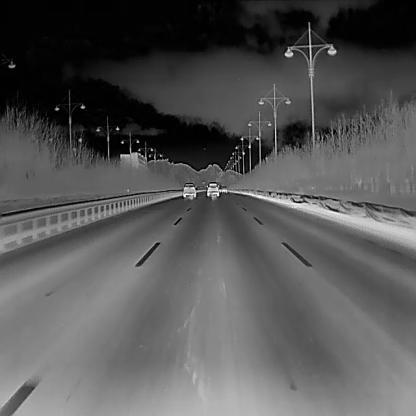car: (181, 182, 196, 197), (205, 180, 219, 196)
